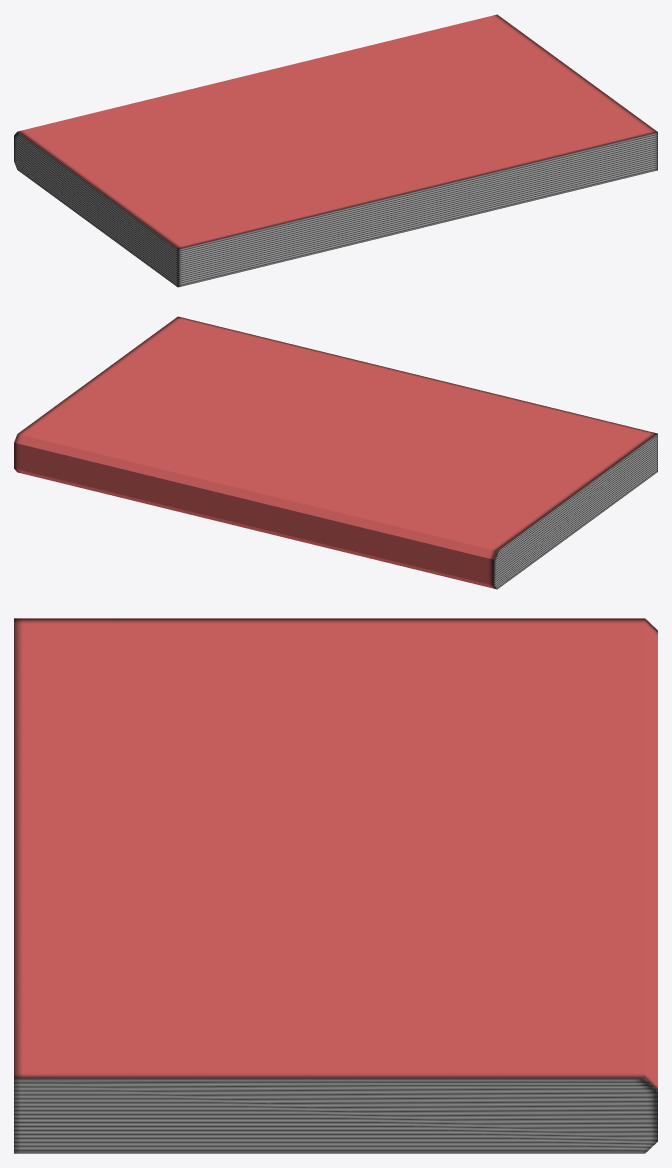
File: book9.fbx
3 renders of one model, top to bottom at view 1: azimuth 30°, elevation 25°; view 2: azimuth 150°, elevation 25°; view 3: azimuth 270°, elevation 25°, orthographic. The views are drawn at different scales.
Visible parts, largest first — view 1: polySurface1126; view 2: polySurface1126; view 3: polySurface1126.
Boxes of the visible parts, x1,y1,x2,y2 form: polySurface1126: (14,14,657,287); polySurface1126: (14,316,657,589); polySurface1126: (14,618,657,1153).
Bounding box in the file's own units: 0.4212 × 0.0322 × 0.2491.
